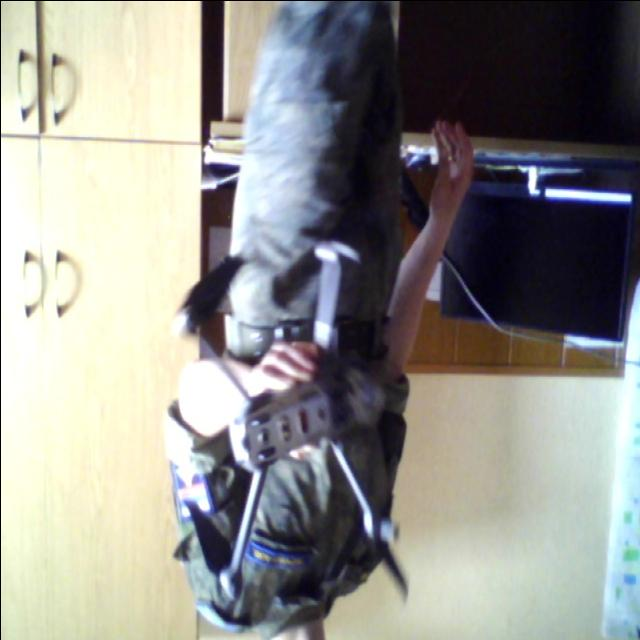drone: (162, 220, 416, 592)
